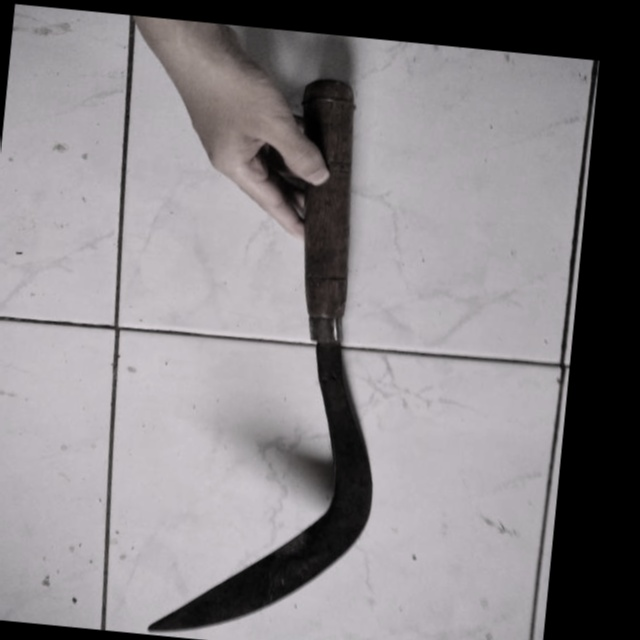Sharp-Object: (124, 20, 440, 640)
